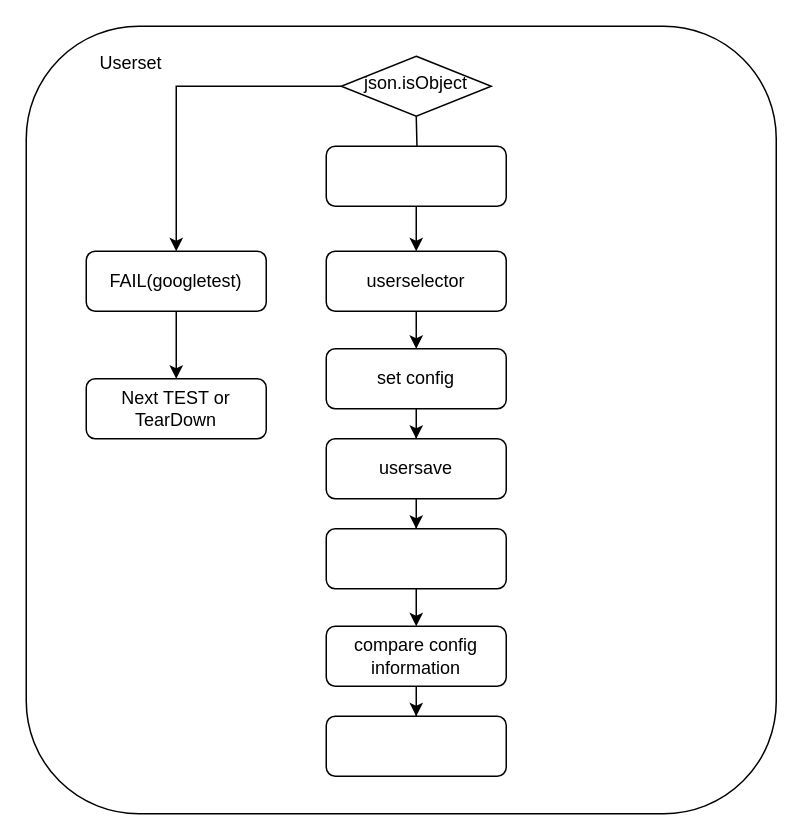
Some shapes in this 803 by 840 pixel diagram are drawn without their labels. Each missing label, with the centre of its shape:
load json "userset config": point (415, 175)
reset original: point (415, 745)
userload: point (415, 558)
